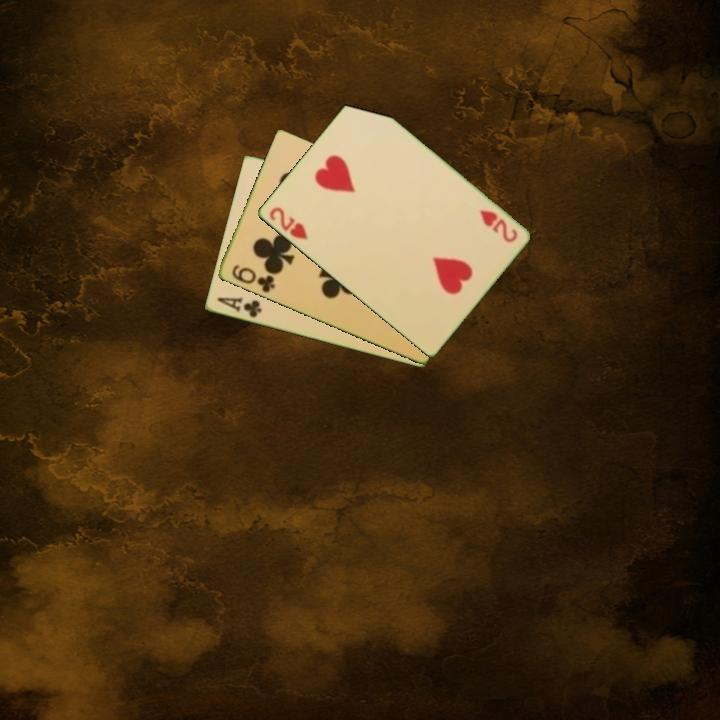2h: (265, 203, 310, 243), (475, 206, 520, 246)
6c: (228, 261, 278, 296)
Ac: (213, 293, 264, 321)
